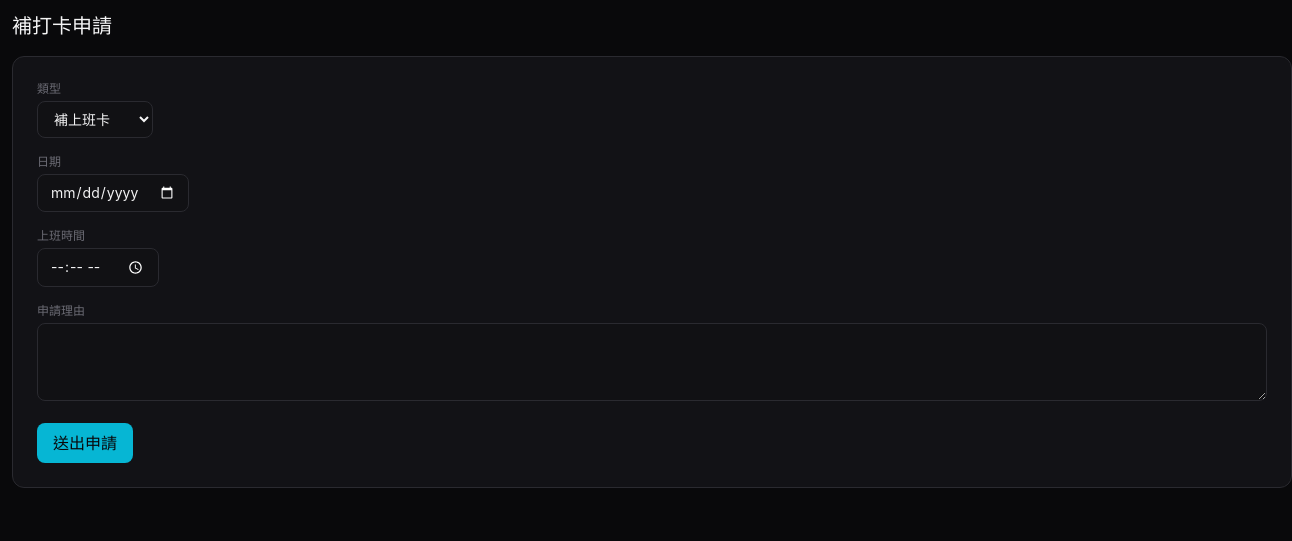
送出失敗時顯示後端錯誤訊息
The image size is (1292, 541).
Type "2026-08-24" into the date field labelled "日期" at (113, 193), box x1=37 y1=174 x2=189 y2=212
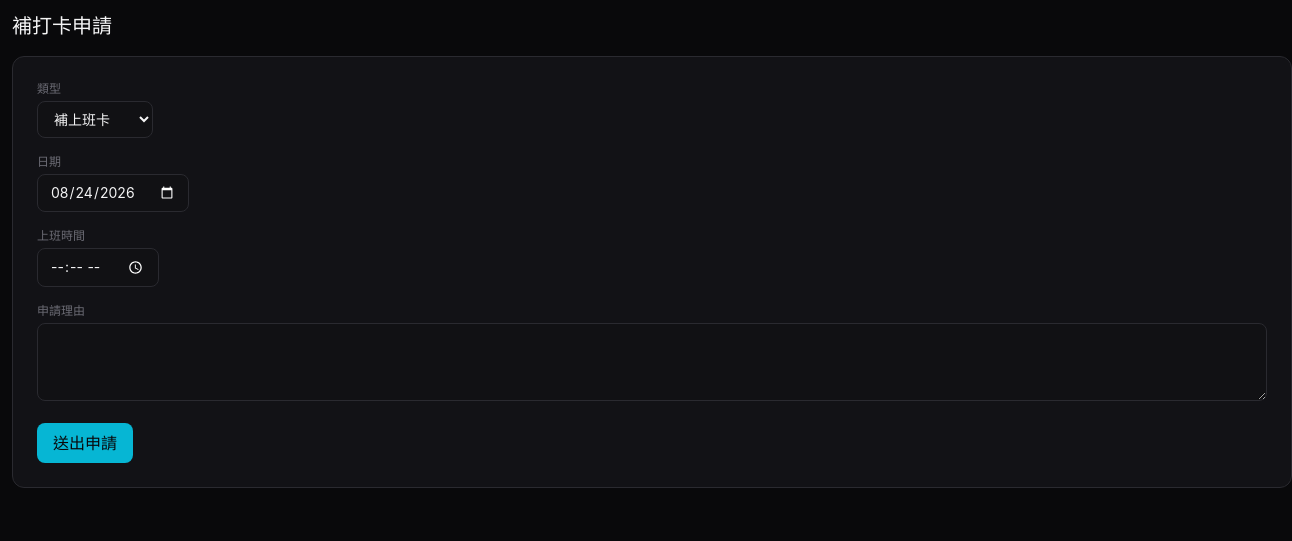
Type "09:00" into the time field labelled "上班時間" at (98, 267), box x1=37 y1=248 x2=159 y2=287
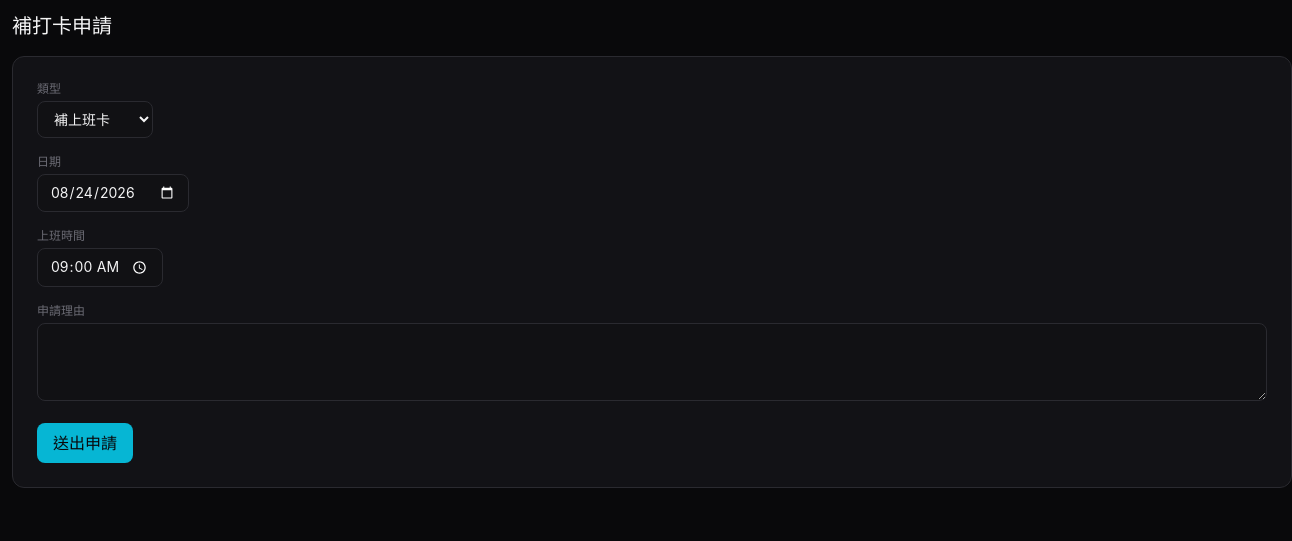
Type "忘記打卡" into the text box labelled "申請理由" at (652, 362), box x1=37 y1=323 x2=1267 y2=401
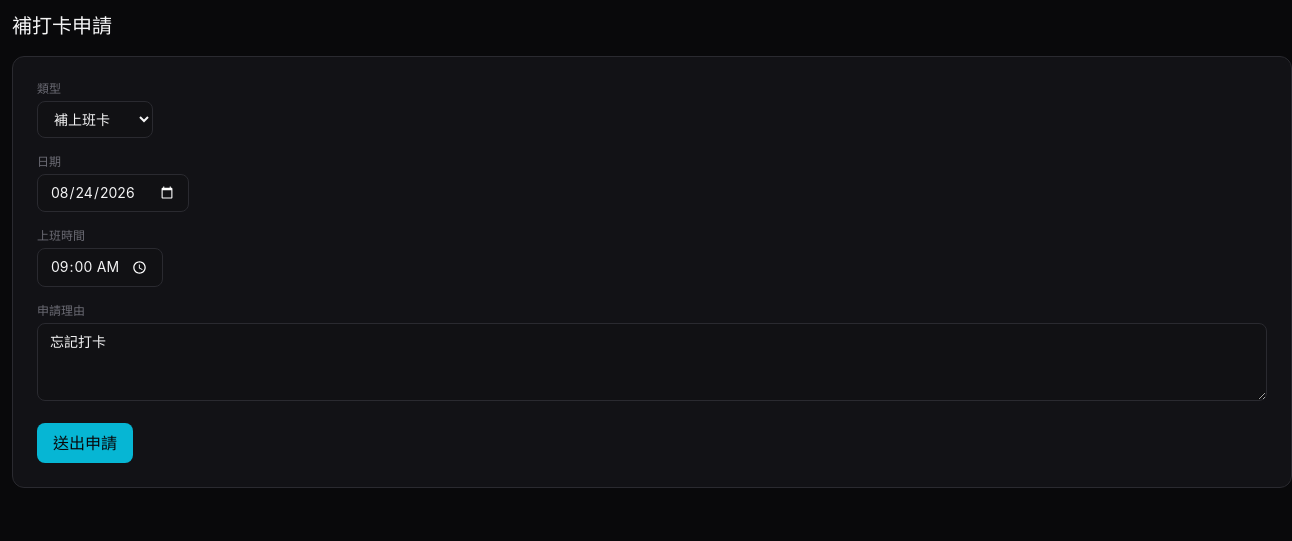
Click the button "送出申請" at (85, 443), box x1=37 y1=423 x2=133 y2=463
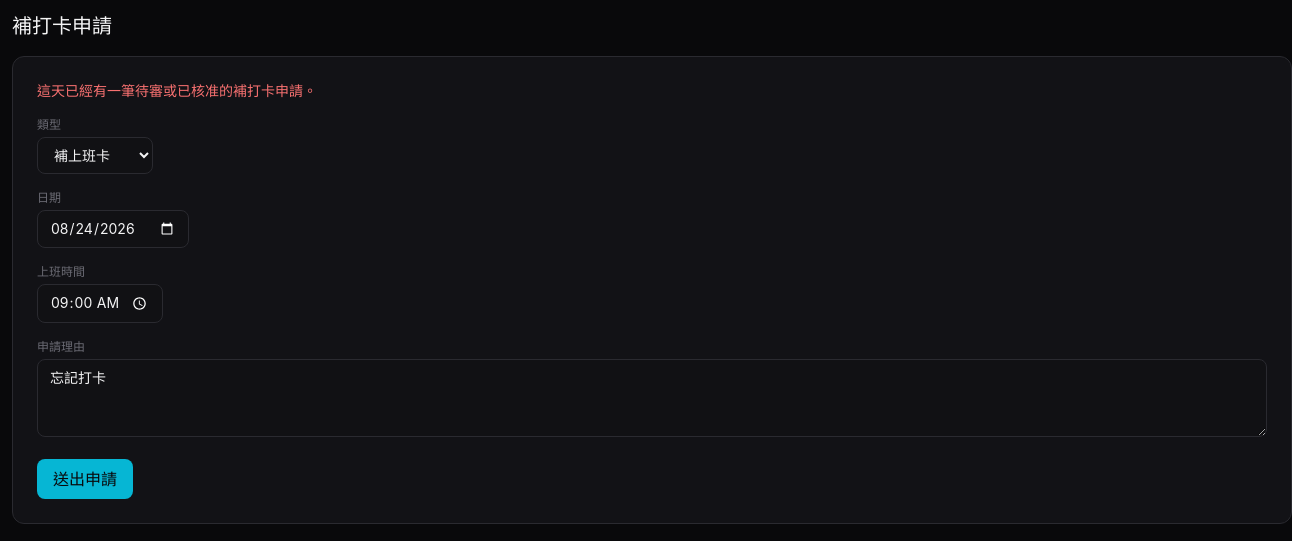
Expected: the text "這天已經有一筆待審或已核准的補打卡申請。" is shown, x1=37 y1=82 x2=317 y2=99
